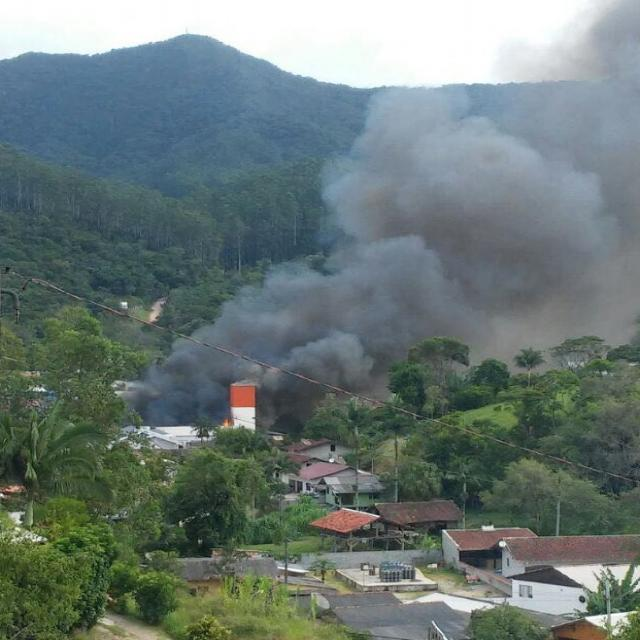Fire: (217, 414, 231, 429)
